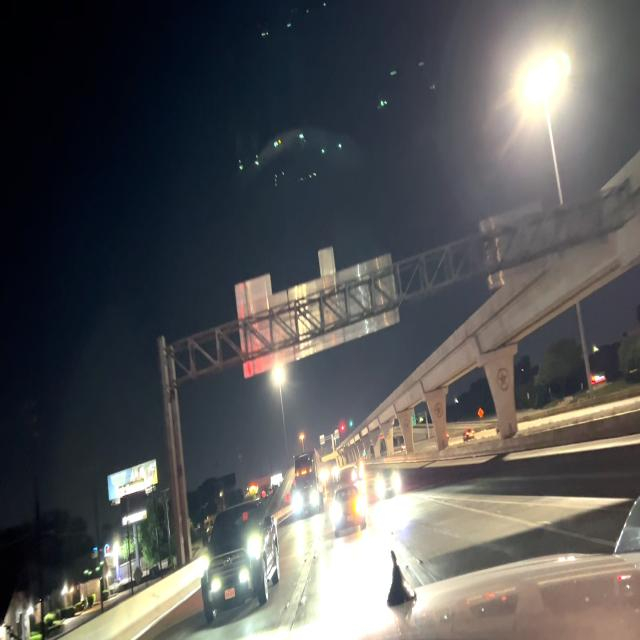back-of-sign: (232, 246, 400, 378), (477, 198, 554, 288)
